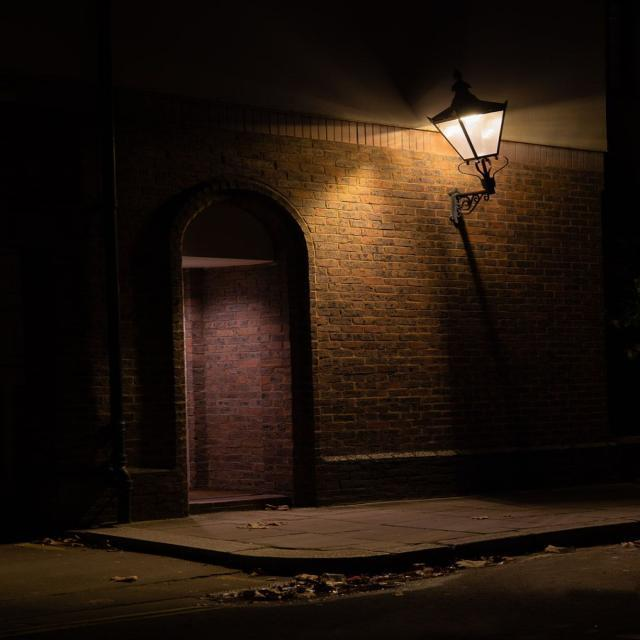on: (436, 76, 523, 181)
